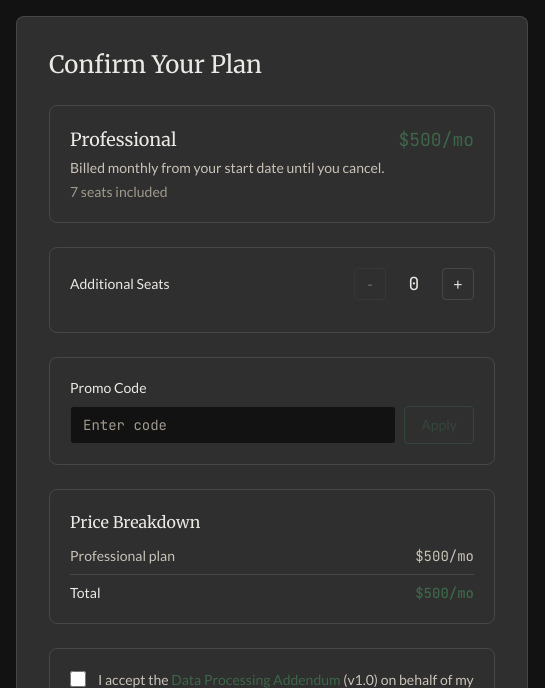
Test: PricingLaunchCheckout › increments seat count when add button clicked
The width and height of the screenshot is (545, 688).
Click the button named "Add seat" at {"x": 458, "y": 284}, box [442, 268, 474, 300]
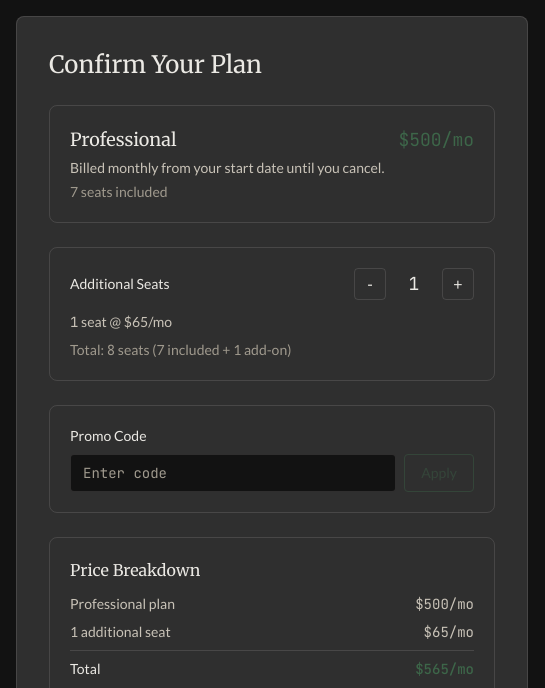
Check: the text "1" in the row of "Additional Seats" is shown, box [409, 272, 419, 295]
